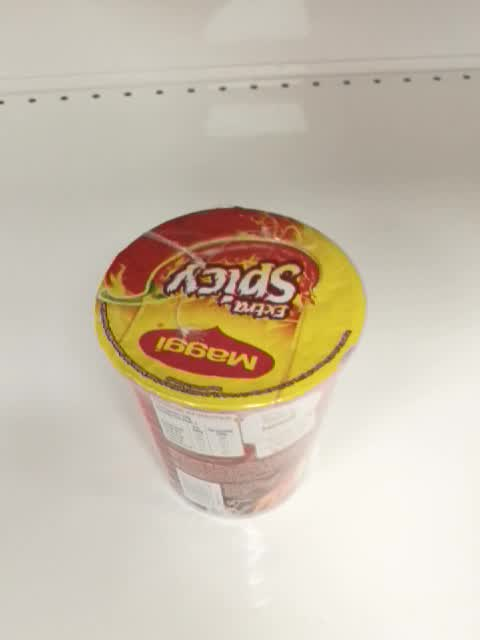maggi: (93, 206, 369, 521)
